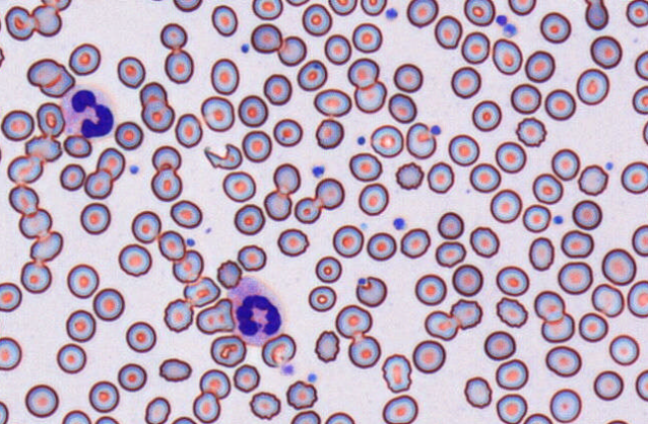GRAN: (224, 276, 289, 349), (60, 83, 121, 140)
PLT: (502, 21, 518, 38), (392, 216, 407, 231), (312, 164, 326, 178), (495, 13, 509, 26), (385, 8, 400, 20), (306, 372, 319, 384), (430, 122, 441, 135), (184, 236, 197, 247), (239, 42, 250, 54), (129, 163, 140, 175), (356, 135, 367, 146), (554, 215, 564, 225), (358, 277, 367, 285), (604, 162, 613, 169)
RBC: (195, 297, 235, 334), (601, 247, 636, 285), (200, 95, 235, 132), (335, 304, 372, 338), (576, 67, 609, 105), (381, 353, 412, 393), (209, 334, 246, 367), (261, 333, 296, 367), (347, 332, 380, 368), (66, 263, 99, 298), (557, 261, 592, 294), (489, 188, 522, 223), (545, 345, 581, 377), (183, 276, 220, 307), (405, 122, 436, 159), (591, 283, 624, 317), (24, 384, 58, 417), (118, 243, 152, 276), (412, 339, 445, 373), (492, 38, 522, 75), (210, 57, 239, 95), (313, 88, 351, 117), (26, 58, 65, 86), (141, 99, 174, 132), (353, 80, 386, 113), (68, 42, 101, 75), (370, 124, 403, 157), (150, 167, 182, 201), (18, 207, 52, 239), (29, 230, 63, 262), (0, 109, 34, 141), (171, 249, 203, 283), (222, 170, 256, 202), (92, 287, 124, 321), (549, 388, 581, 422), (590, 35, 622, 69), (4, 5, 35, 40), (7, 154, 43, 184), (381, 394, 418, 423), (495, 358, 528, 390), (451, 263, 483, 296), (332, 224, 364, 257), (540, 312, 574, 343), (495, 265, 529, 296), (424, 310, 459, 340), (36, 101, 65, 137), (25, 134, 62, 162), (533, 290, 565, 322), (355, 275, 387, 307), (233, 203, 265, 235), (79, 202, 111, 234), (414, 273, 446, 305), (544, 88, 576, 120), (539, 11, 571, 43), (20, 260, 51, 293), (495, 296, 528, 327), (577, 163, 608, 196), (65, 309, 96, 342), (495, 140, 526, 173), (524, 49, 555, 82), (237, 94, 268, 127), (241, 129, 272, 162), (301, 3, 332, 36), (448, 133, 479, 166), (358, 182, 389, 215), (163, 298, 193, 332), (31, 4, 62, 36), (450, 298, 482, 329), (347, 57, 379, 88), (532, 172, 563, 204), (88, 380, 119, 412), (296, 59, 327, 91), (125, 320, 156, 352), (450, 66, 481, 98), (131, 210, 161, 243), (483, 330, 516, 360), (469, 225, 499, 258), (460, 31, 490, 64), (164, 49, 193, 83), (348, 152, 382, 181), (560, 229, 594, 258), (8, 184, 39, 215), (199, 368, 230, 399), (515, 116, 546, 147), (510, 83, 541, 114), (571, 199, 602, 230), (351, 22, 382, 53), (608, 334, 639, 365), (314, 177, 344, 209), (495, 393, 527, 423), (469, 162, 501, 192), (550, 148, 580, 180), (250, 23, 282, 53), (471, 99, 501, 131), (96, 147, 125, 180), (276, 227, 309, 256), (169, 199, 202, 228), (174, 113, 202, 147), (434, 15, 462, 49), (593, 370, 624, 400), (387, 92, 417, 123), (400, 227, 430, 258), (263, 189, 292, 221), (157, 229, 186, 261), (285, 380, 317, 409), (463, 376, 492, 408), (249, 391, 281, 420), (263, 73, 292, 105), (272, 162, 300, 195), (117, 55, 145, 88), (56, 343, 86, 373), (578, 312, 608, 342), (366, 231, 396, 261), (393, 62, 423, 92), (277, 35, 306, 66), (315, 118, 344, 149), (192, 391, 220, 423), (426, 161, 454, 193), (620, 161, 647, 194), (528, 236, 554, 270), (114, 120, 143, 150), (117, 362, 147, 391), (272, 118, 302, 147), (84, 168, 112, 199), (434, 240, 466, 267), (211, 4, 238, 36), (406, 0, 438, 27), (314, 329, 340, 362), (395, 161, 424, 190), (324, 33, 351, 64), (463, 0, 495, 26), (158, 357, 191, 382), (232, 363, 260, 392), (522, 204, 551, 232), (236, 244, 266, 271), (626, 279, 647, 317), (314, 255, 342, 283), (151, 145, 181, 171), (216, 259, 242, 289), (159, 22, 187, 49), (293, 196, 321, 223), (308, 285, 336, 312), (437, 211, 464, 239), (584, 0, 609, 30), (0, 336, 22, 370), (139, 81, 167, 107), (59, 163, 85, 191), (144, 396, 170, 423), (63, 134, 92, 158), (0, 281, 22, 312), (251, 0, 283, 20), (625, 0, 648, 27), (631, 224, 647, 256), (632, 85, 647, 114), (507, 0, 536, 15), (328, 0, 357, 15), (61, 409, 91, 423), (290, 409, 320, 423), (360, 0, 386, 16), (634, 49, 647, 80), (635, 369, 647, 401), (324, 411, 355, 423), (172, 0, 202, 12), (40, 0, 71, 11), (523, 412, 552, 423), (170, 415, 196, 423), (0, 400, 9, 423), (94, 415, 119, 423), (642, 119, 648, 145), (285, 0, 309, 6), (604, 418, 629, 423), (0, 45, 5, 69), (147, 0, 168, 1)
Schistocyte: (202, 143, 245, 170), (40, 71, 74, 97)
